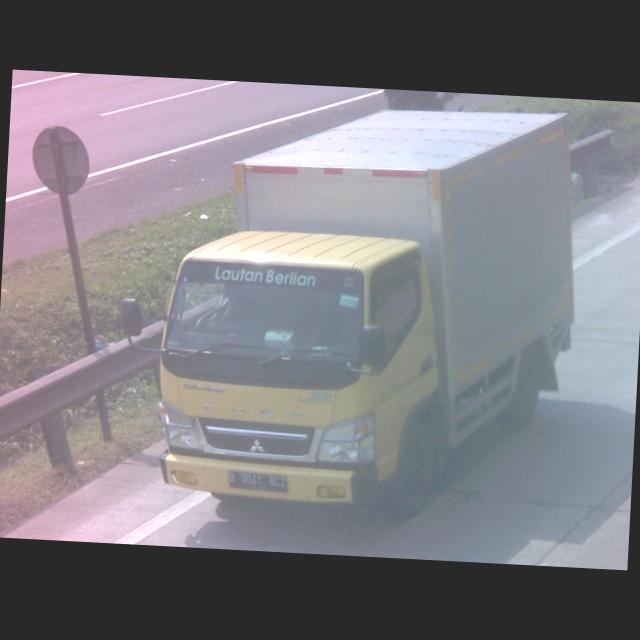plate: (223, 468, 292, 498)
